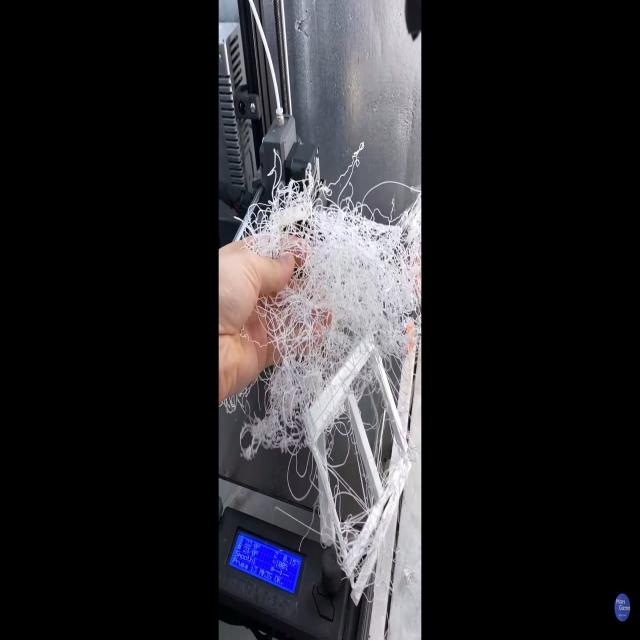spaghetti: (234, 142, 420, 494)
